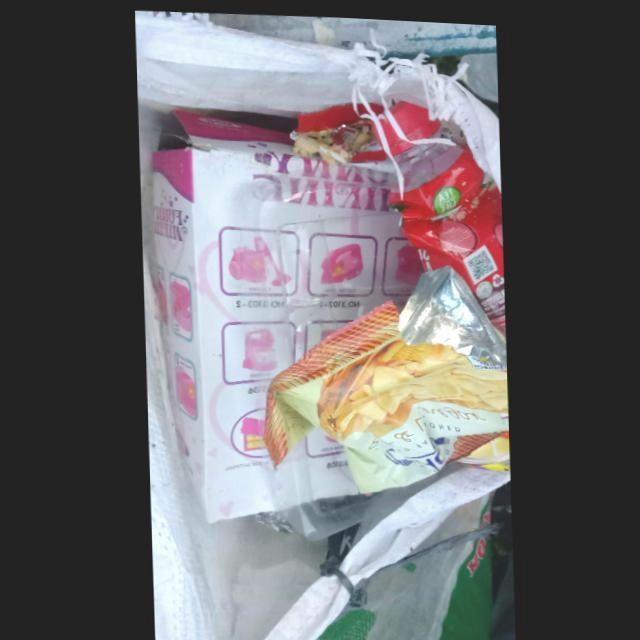cardboard: (150, 107, 421, 519)
food_wrapper: (261, 259, 507, 489)
plastic_bottle: (355, 96, 504, 334)
